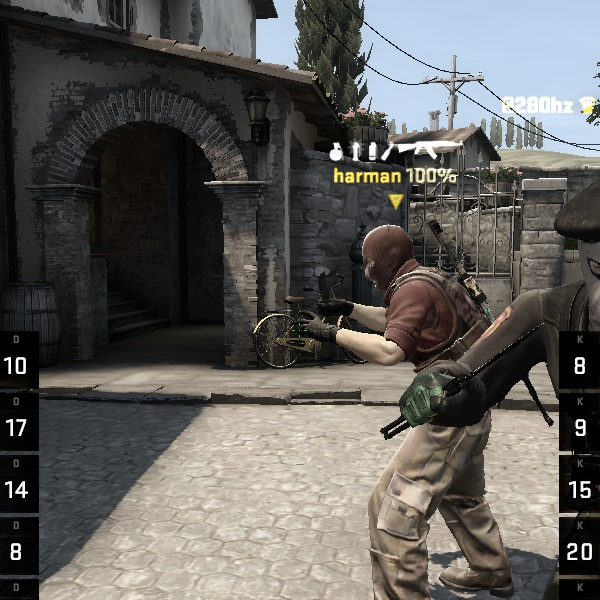t_head: (349, 215, 435, 301)
